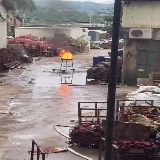fire: (58, 50, 73, 59)
